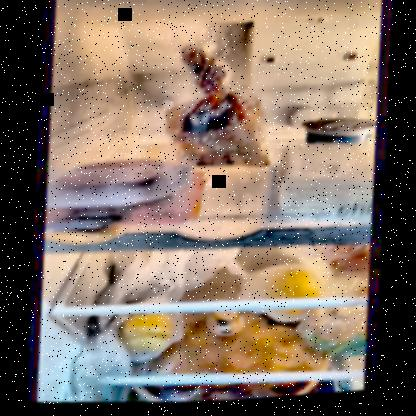cheese: (272, 147, 374, 226)
green_chillies: (296, 322, 367, 364)
lemon: (122, 314, 177, 362), (266, 269, 327, 307)
salami: (62, 155, 167, 206)
yoghurt: (305, 119, 373, 153)
